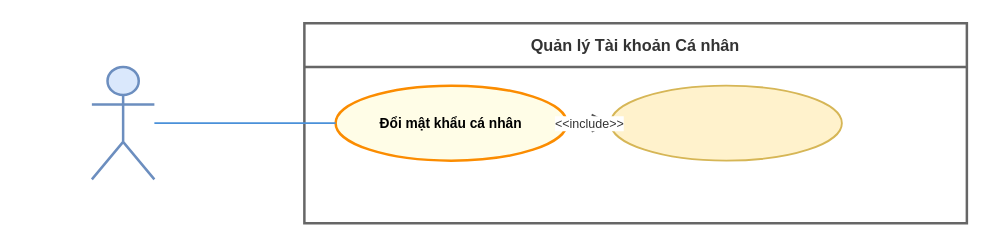
Image size: 990x245. Some labels were removed from this diagram. Each missing label, with the centre of its shape:
"Mã hóa mật khẩu bằng BCrypt" goes at point (725, 122).
"Quản lý chi nhánh (MANAGER)" goes at point (122, 122).
